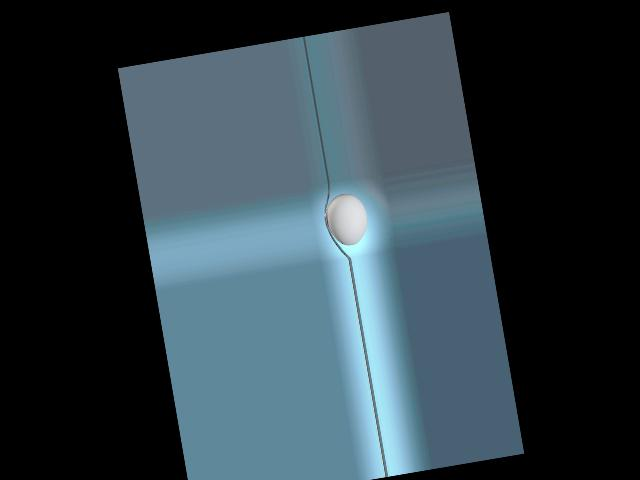egg: (323, 190, 370, 248)
